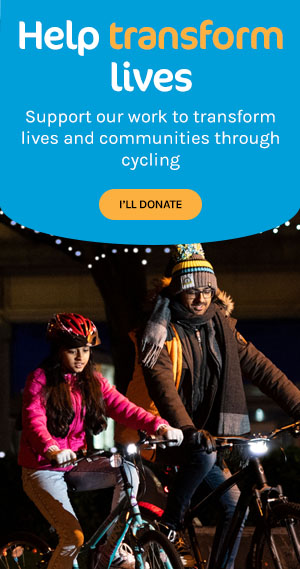helmet: (45, 311, 101, 373)
